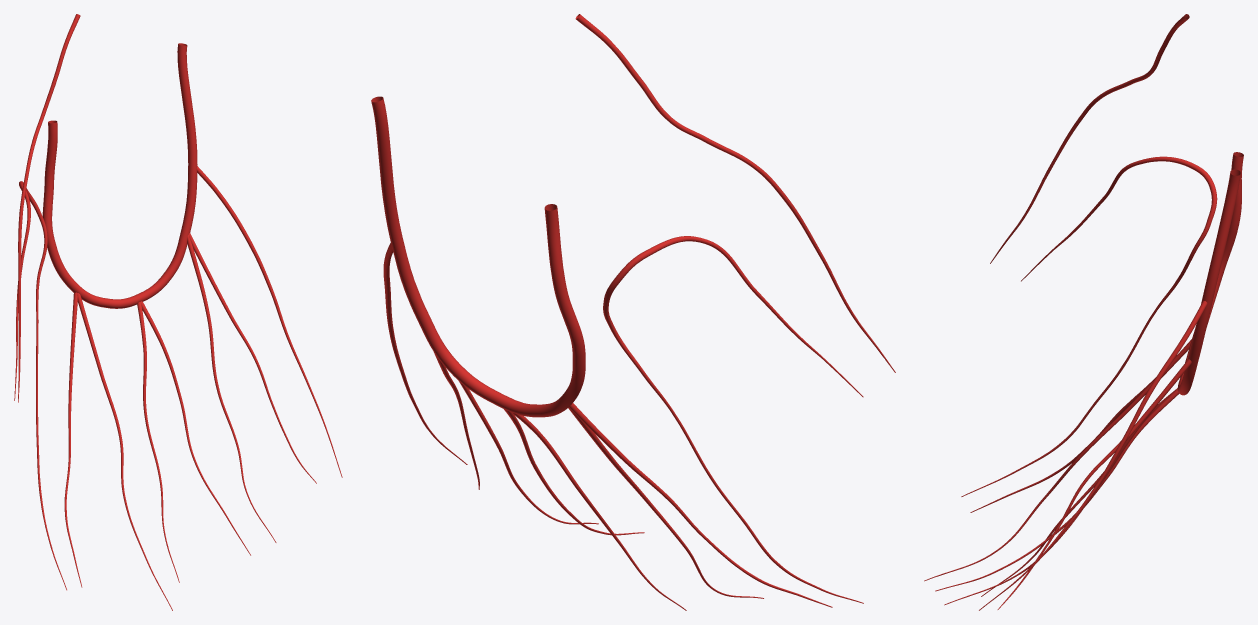
The model's file is circulatorio-dorsal-venous-network-of-hand-r.glb.
3 views of the same model, side by side, from view 1: azimuth 30°, elevation 25°; view 2: azimuth 150°, elevation 25°; view 3: azimuth 270°, elevation 25° (orthographic). The views are drawn at different scales.
Parts seen in each view (by area): view 1: Dorsal digital veins of hand.r, Dorsal venous network of hand.r; view 2: Dorsal digital veins of hand.r, Dorsal venous network of hand.r; view 3: Dorsal digital veins of hand.r, Dorsal venous network of hand.r.
Boxes of the visible parts, box(x1,y1,x2,y2) form: Dorsal digital veins of hand.r: box(14, 14, 342, 610); Dorsal venous network of hand.r: box(42, 43, 197, 308); Dorsal digital veins of hand.r: box(383, 14, 895, 610); Dorsal venous network of hand.r: box(371, 96, 585, 417); Dorsal digital veins of hand.r: box(924, 14, 1217, 610); Dorsal venous network of hand.r: box(1177, 152, 1243, 395).
Bounding box in the file's own units: 0.1062 × 0.1592 × 0.0799.
